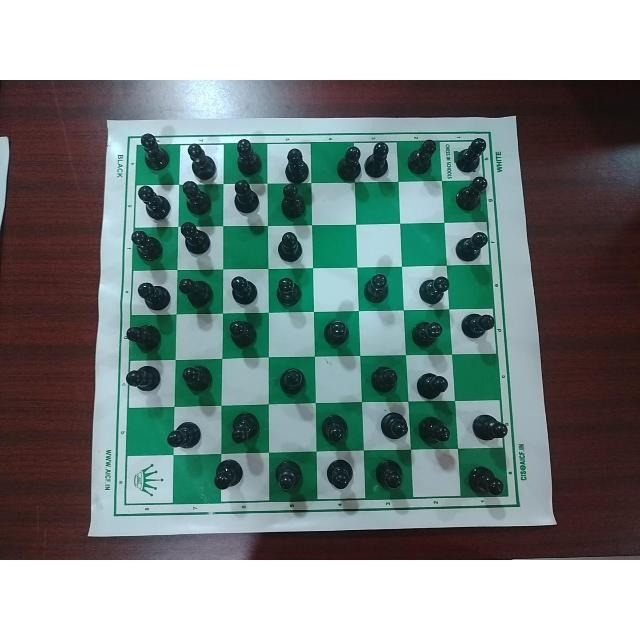black-pawn: (471, 409, 511, 447), (136, 131, 172, 173), (459, 307, 501, 343), (417, 270, 455, 309), (363, 137, 394, 184), (185, 137, 218, 181), (177, 270, 216, 307), (176, 221, 216, 257), (413, 365, 453, 401), (466, 462, 506, 498), (407, 135, 439, 179), (453, 176, 490, 214), (453, 226, 490, 264), (178, 180, 217, 216), (165, 417, 206, 451), (372, 455, 407, 494), (124, 364, 164, 398), (135, 185, 172, 221), (212, 457, 249, 493), (417, 410, 455, 445), (323, 456, 357, 495), (334, 142, 362, 189), (233, 135, 265, 176), (454, 136, 489, 173), (135, 275, 172, 310), (129, 229, 168, 262), (124, 319, 163, 352), (321, 410, 357, 445), (229, 179, 263, 215), (181, 361, 217, 395), (273, 459, 309, 493), (277, 182, 309, 219), (230, 407, 262, 444), (377, 410, 411, 444), (276, 230, 308, 266), (411, 317, 447, 349), (226, 273, 262, 305), (276, 365, 309, 398), (227, 317, 260, 349), (283, 145, 309, 185), (362, 272, 394, 304), (274, 275, 306, 307), (369, 364, 401, 395), (323, 316, 352, 348)
